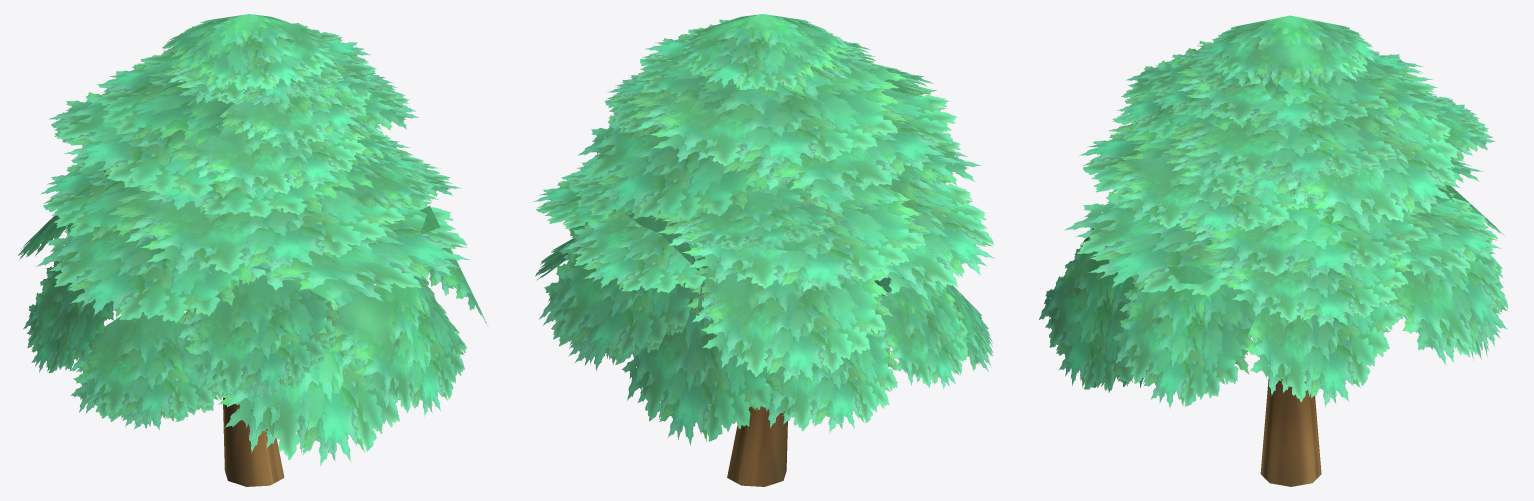
File: Tree_02a.fbx
3 renders of one model, left to right at view 1: azimuth 30°, elevation 25°; view 2: azimuth 150°, elevation 25°; view 3: azimuth 270°, elevation 25°, orthographic.
Parts seen in each view (by area): view 1: Tree_02a; view 2: Tree_02a; view 3: Tree_02a.
Part boxes in pixels (x1,y1,x2,y2): Tree_02a: [18, 14, 487, 486]; Tree_02a: [532, 14, 995, 486]; Tree_02a: [1039, 15, 1508, 486].
Size of the model in its own units: 635 by 667 by 645.
